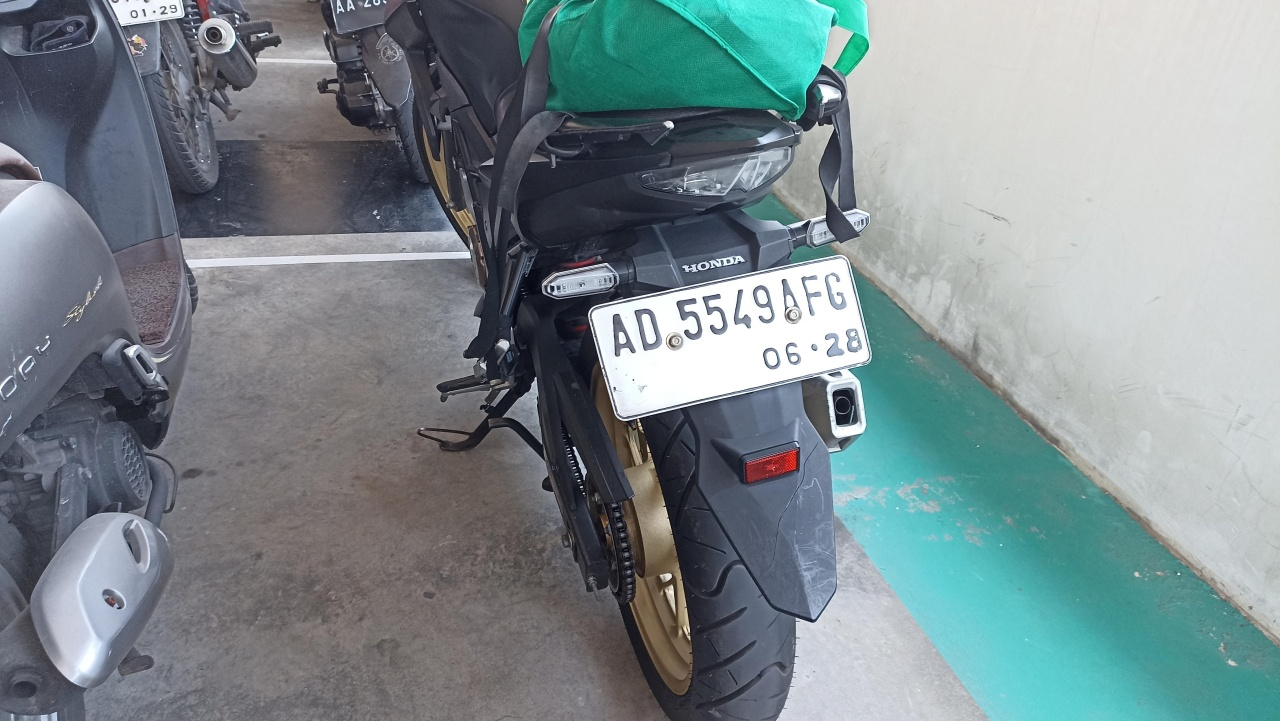plate: (587, 255, 874, 424)
